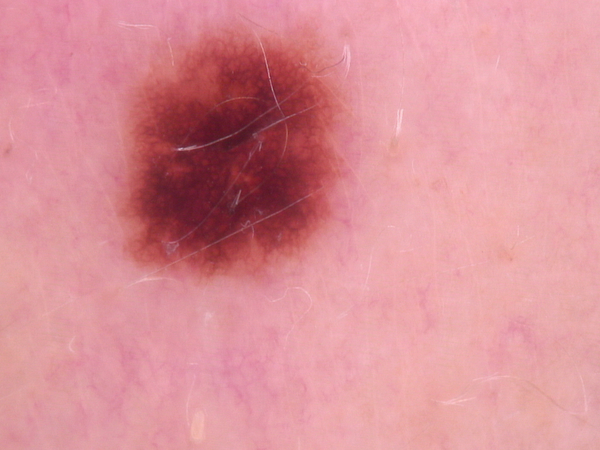Detected Lesion: (108, 24, 352, 288)
